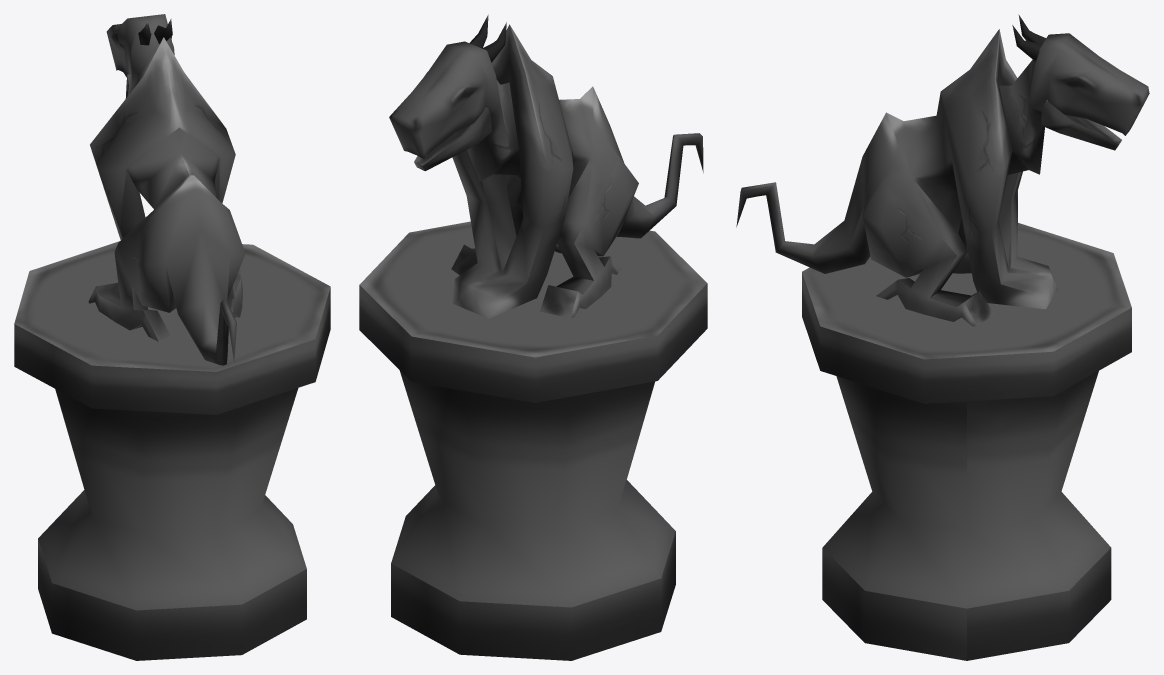
File: fast_tower.fbx
The picture shows the model from 3 angles, left to right: view 1: azimuth 30°, elevation 25°; view 2: azimuth 150°, elevation 25°; view 3: azimuth 270°, elevation 25°; orthographic projection. The views are drawn at different scales.
Visible parts, largest first — view 1: Turret, Base; view 2: Turret, Base, Mouth; view 3: Turret, Base, Mouth.
Boxes of the visible parts, box(x1,y1,x2,y2) form: Turret: box(14, 14, 330, 414); Base: box(38, 388, 306, 660); Turret: box(359, 14, 707, 402); Base: box(391, 370, 675, 660); Mouth: box(414, 107, 491, 171); Turret: box(736, 14, 1149, 403); Base: box(822, 371, 1111, 660); Mouth: box(1041, 99, 1121, 150).
Bounding box in the file's own units: 114 × 224 × 143.
1 material, 1 textured.
